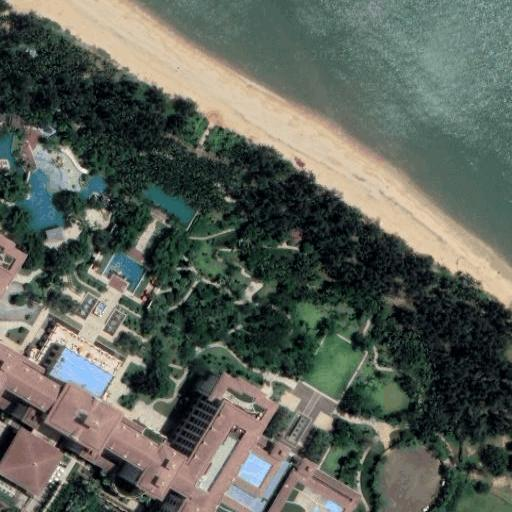building: (169, 399, 268, 512), (103, 413, 190, 505), (212, 434, 298, 512), (44, 377, 125, 452), (264, 455, 363, 512), (34, 324, 122, 378), (207, 371, 279, 426), (47, 348, 113, 398), (281, 410, 310, 444), (39, 222, 65, 242)
